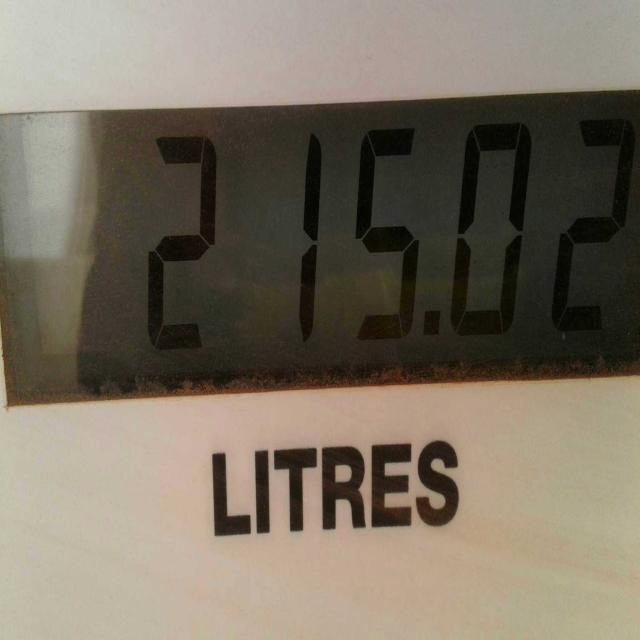.: (417, 303, 450, 363)
0: (446, 124, 529, 353)
1: (289, 131, 333, 354)
2: (545, 114, 636, 353), (142, 131, 232, 356)
5: (346, 125, 420, 360)
